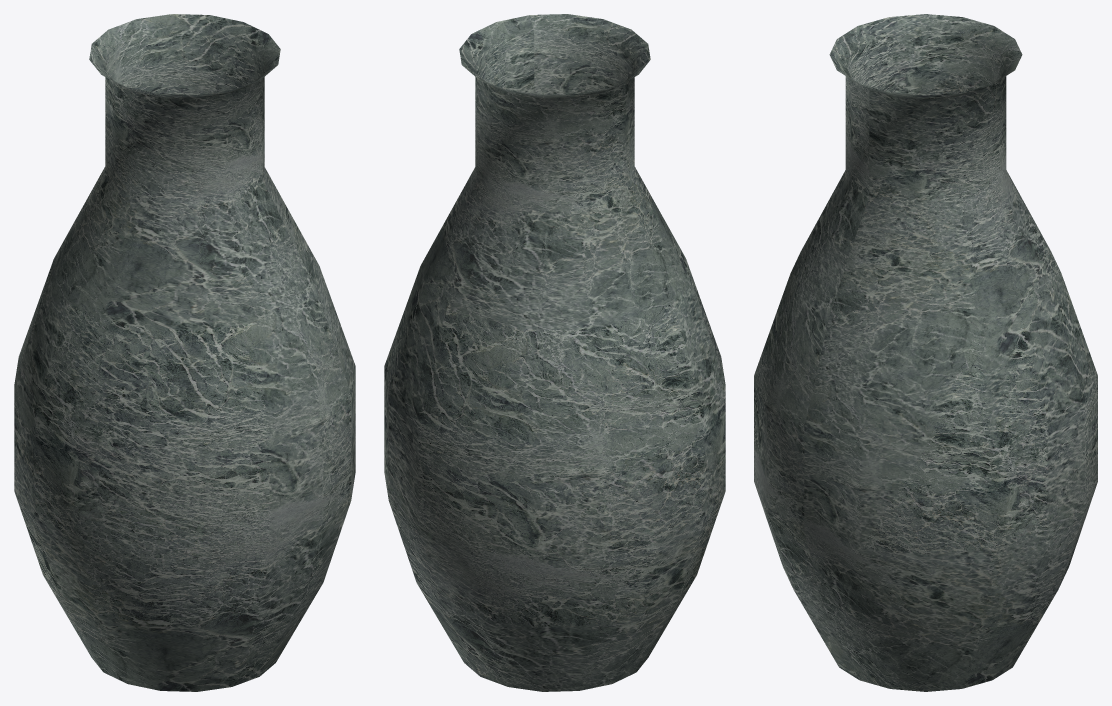
The model's file is vase2.fbx.
3 renders of one model, left to right at view 1: azimuth 30°, elevation 25°; view 2: azimuth 150°, elevation 25°; view 3: azimuth 270°, elevation 25°, orthographic.
Visible parts, largest first — view 1: ваза1; view 2: ваза1; view 3: ваза1.
Part boxes in pixels (<box>): ваза1: <box>14,14,355,691</box>; ваза1: <box>384,14,725,691</box>; ваза1: <box>754,14,1097,691</box>.
Bounding box in the file's own units: 0.1813 × 0.3475 × 0.1813.
